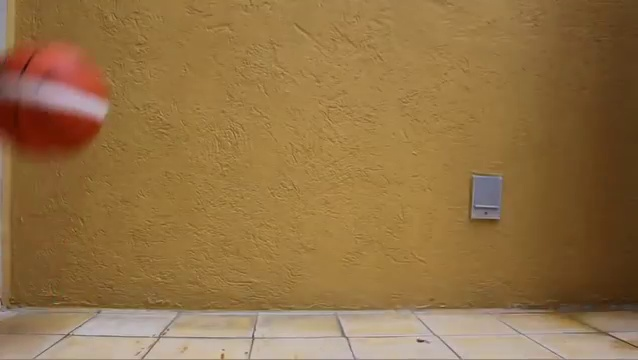ball: (1, 41, 109, 160)
